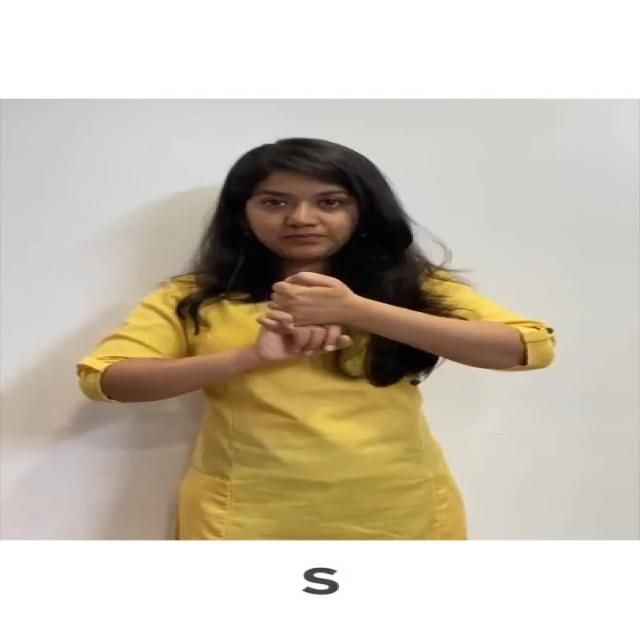S: (237, 265, 380, 372)
